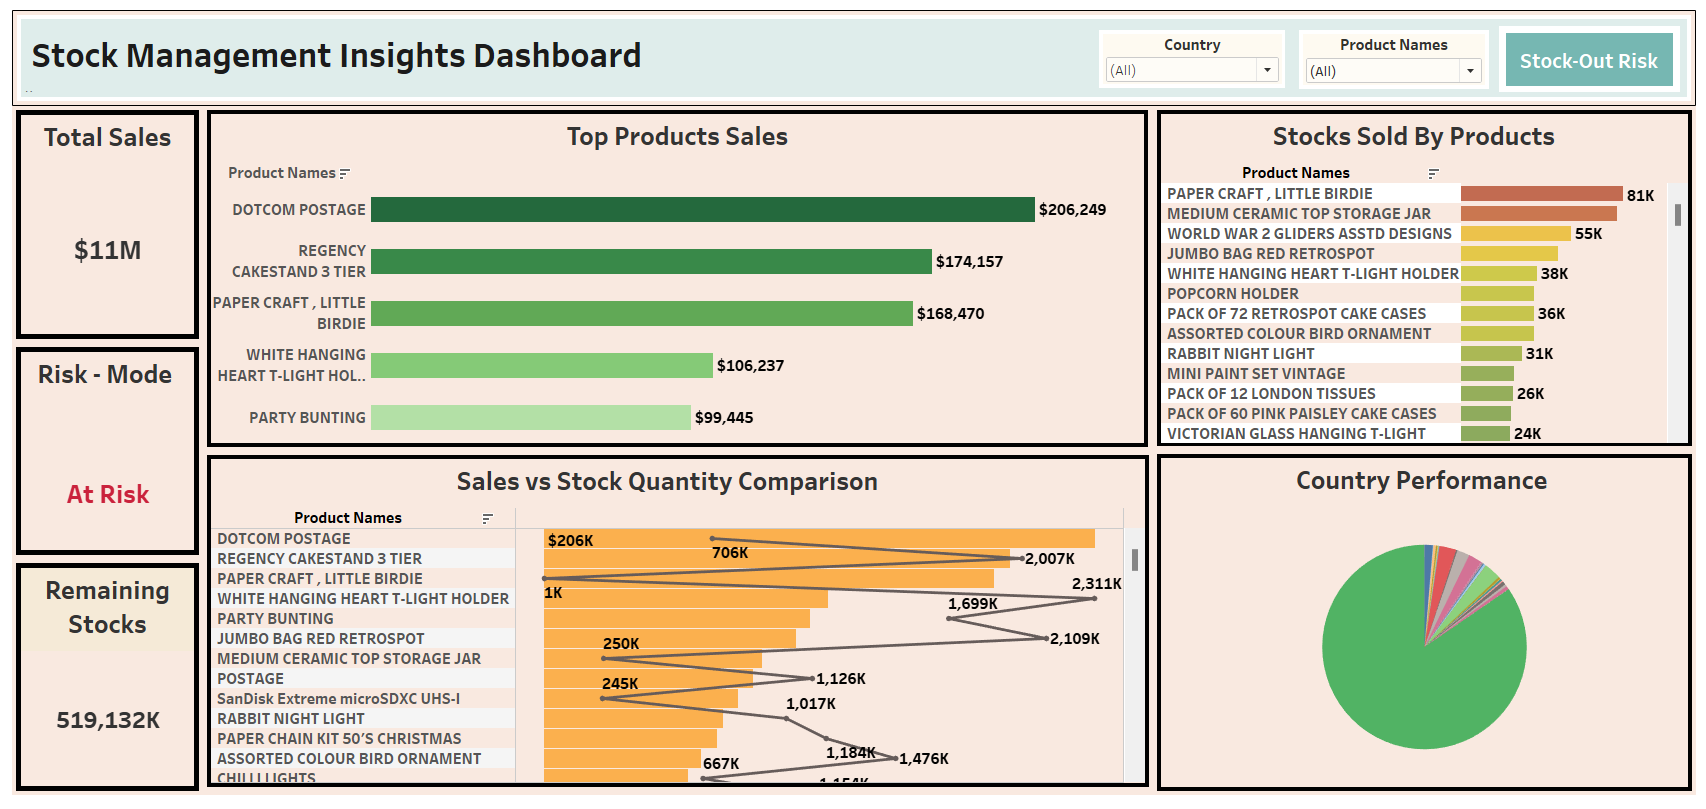

What the dashboard file says about the page in this screenshot:
{"tool":"tableau","page":{"name":"Introduction","canvas":[1000,1000],"units":"permille","ordinal":1},"visuals":[{"type":"text","box":[5.6,11.5,988.9,117.1]},{"type":"dashboard-object","box":[879.7,29.4,106.3,83.2]},{"type":"filter","title":"Country Performance ","param":"[federated.1yljzxz1cs5ijw1c9xl2217wrrkq].[none:Country:nk]","box":[643.9,34.6,110,73]},{"type":"filter","title":"Sheet 8","param":"[federated.1yljzxz1cs5ijw1c9xl2217wrrkq].[none:Description:nk]","box":[761.8,34.6,111.8,74.3]},{"type":"worksheet","title":"Total Sales KPI","mark":"Automatic","box":[4.9,129.3,112.3,289.4]},{"type":"worksheet","title":"Top 5 Products Sales ","mark":"Bar","rows":["Description"],"cols":["Total Sales"],"box":[117.3,129.9,558.2,430.4]},{"type":"worksheet","title":"Stocks Level By Products ","mark":"Bar","rows":["Description"],"cols":["Quantity"],"box":[675.5,129.9,319.5,429.9]},{"type":"worksheet","title":"Risk-Out KPI","mark":"Automatic","box":[4.9,418.7,112.3,276.6]},{"type":"worksheet","title":"Country Performance ","mark":"Pie","box":[675.5,559.7,319.5,430]},{"type":"worksheet","title":"Sales vs Stock Comparison","mark":"Bar","rows":["Description"],"cols":["Total Sales","Stock Quantity"],"box":[117.3,560.8,558,428.9]},{"type":"worksheet","title":"Remaining Stocks KPI","mark":"Automatic","box":[4.9,695.1,112.4,294.7]},{"type":"worksheet","title":"Sheet 8","mark":"Automatic","box":[943,935.8,52,52.8]}]}

Visuals, with their boxes on the dashboard's canvas, which has no fixed pixel size, in thousandths of its width and height (x1, y1, x2, y2). These are canvas units, not pixel positions in the 1706x809 screenshot, which may show the page scaled, cropped or inside an application window:
text: pyautogui.locateOnScreen(6, 12, 994, 129)
dashboard-object: pyautogui.locateOnScreen(880, 29, 986, 113)
"Country Performance " filter: pyautogui.locateOnScreen(644, 35, 754, 108)
"Sheet 8" filter: pyautogui.locateOnScreen(762, 35, 874, 109)
"Total Sales KPI" worksheet: pyautogui.locateOnScreen(5, 129, 117, 419)
"Top 5 Products Sales " worksheet (Bar marks): pyautogui.locateOnScreen(117, 130, 676, 560)
"Stocks Level By Products " worksheet (Bar marks): pyautogui.locateOnScreen(676, 130, 995, 560)
"Risk-Out KPI" worksheet: pyautogui.locateOnScreen(5, 419, 117, 695)
"Country Performance " worksheet (Pie marks): pyautogui.locateOnScreen(676, 560, 995, 990)
"Sales vs Stock Comparison" worksheet (Bar marks): pyautogui.locateOnScreen(117, 561, 675, 990)
"Remaining Stocks KPI" worksheet: pyautogui.locateOnScreen(5, 695, 117, 990)
"Sheet 8" worksheet: pyautogui.locateOnScreen(943, 936, 995, 989)
